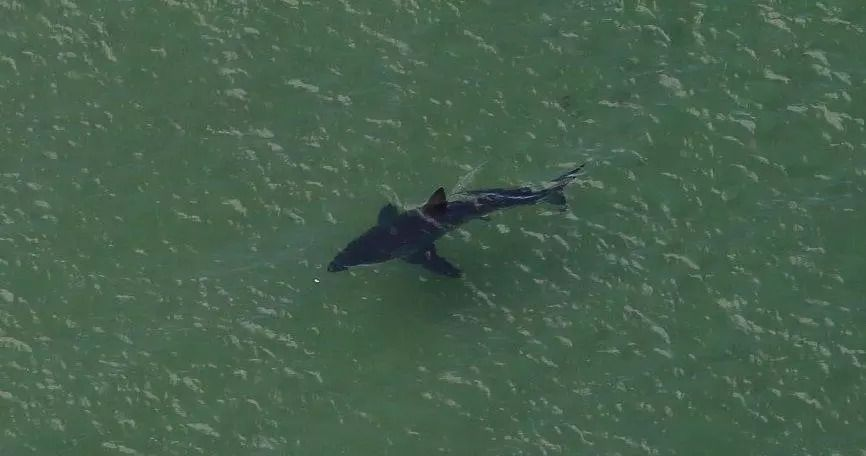shark: (322, 160, 585, 282)
